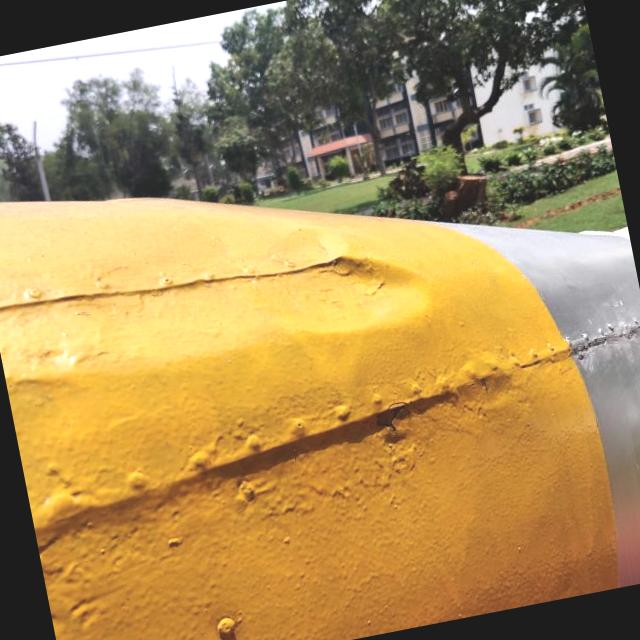dent: (266, 218, 461, 372)
